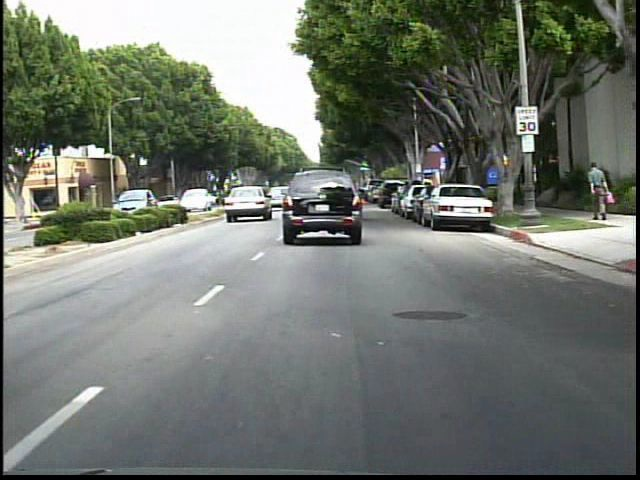person: (584, 156, 614, 224)
